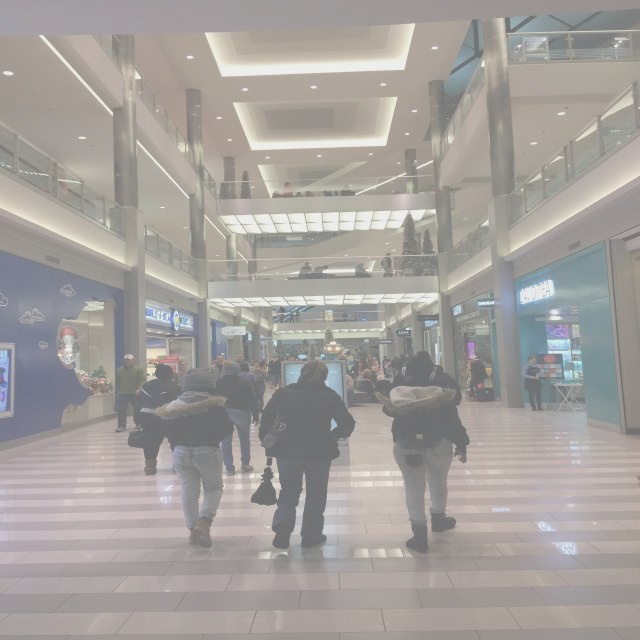pessoa: (254, 358, 364, 555), (380, 348, 476, 556), (148, 365, 235, 549), (134, 362, 184, 476), (213, 359, 260, 476), (110, 352, 150, 433), (221, 360, 259, 440), (293, 260, 376, 280), (270, 180, 358, 198), (249, 360, 277, 414), (520, 355, 545, 413), (463, 354, 493, 402), (433, 364, 463, 406), (415, 350, 438, 382), (172, 360, 194, 390), (354, 368, 376, 391), (268, 356, 282, 389), (208, 354, 225, 381), (373, 374, 393, 394), (234, 352, 252, 372), (346, 374, 356, 408), (381, 252, 394, 278), (403, 352, 416, 374), (338, 353, 350, 374), (389, 354, 398, 380), (381, 356, 391, 378), (349, 361, 361, 378), (397, 353, 407, 373), (253, 358, 267, 371), (366, 354, 379, 368), (358, 356, 368, 374), (364, 356, 376, 369), (383, 361, 392, 378), (288, 310, 296, 324), (294, 308, 301, 324), (338, 312, 349, 322), (286, 356, 308, 361), (306, 316, 320, 323), (278, 312, 284, 324), (276, 306, 286, 313), (346, 372, 354, 380), (262, 358, 268, 368), (249, 359, 256, 366), (280, 356, 288, 362), (254, 356, 260, 364), (313, 356, 322, 361), (390, 190, 400, 194), (276, 358, 282, 362)
